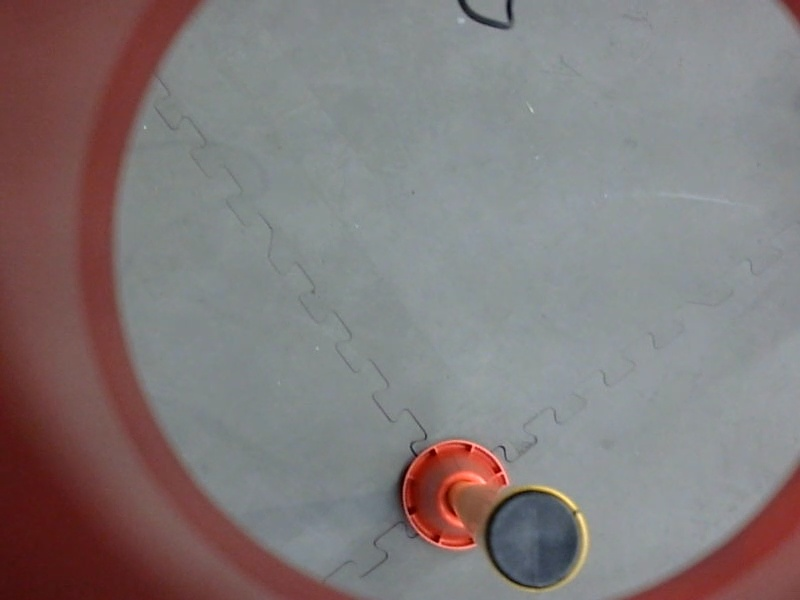tip: (477, 480, 597, 600)
